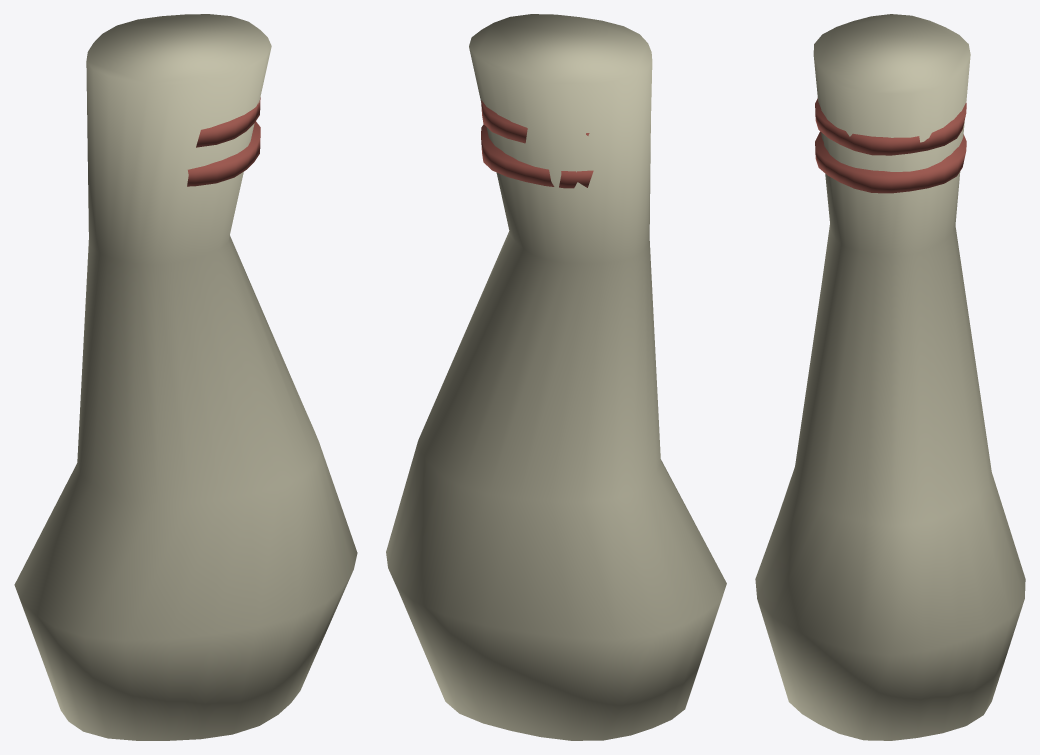
Rendered from sock.glb.
3 views of the same model, side by side, from view 1: azimuth 30°, elevation 25°; view 2: azimuth 150°, elevation 25°; view 3: azimuth 270°, elevation 25° (orthographic).
Visible parts, largest first — view 1: Lumpy cotton, Sports stripe, Sports stripe.001; view 2: Lumpy cotton, Sports stripe, Sports stripe.001; view 3: Lumpy cotton, Sports stripe, Sports stripe.001.
Boxes of the visible parts, x1,y1,x2,y2 form: Lumpy cotton: (14, 14, 357, 740); Sports stripe: (187, 121, 260, 186); Sports stripe.001: (196, 97, 260, 147); Lumpy cotton: (386, 14, 726, 740); Sports stripe: (481, 124, 593, 188); Sports stripe.001: (481, 100, 589, 143); Lumpy cotton: (755, 14, 1025, 740); Sports stripe: (815, 131, 966, 193); Sports stripe.001: (815, 98, 966, 155).
Bounding box in the file's own units: 0.3395 × 0.67 × 0.259.
